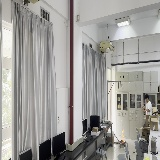fire: (120, 129, 125, 142)
